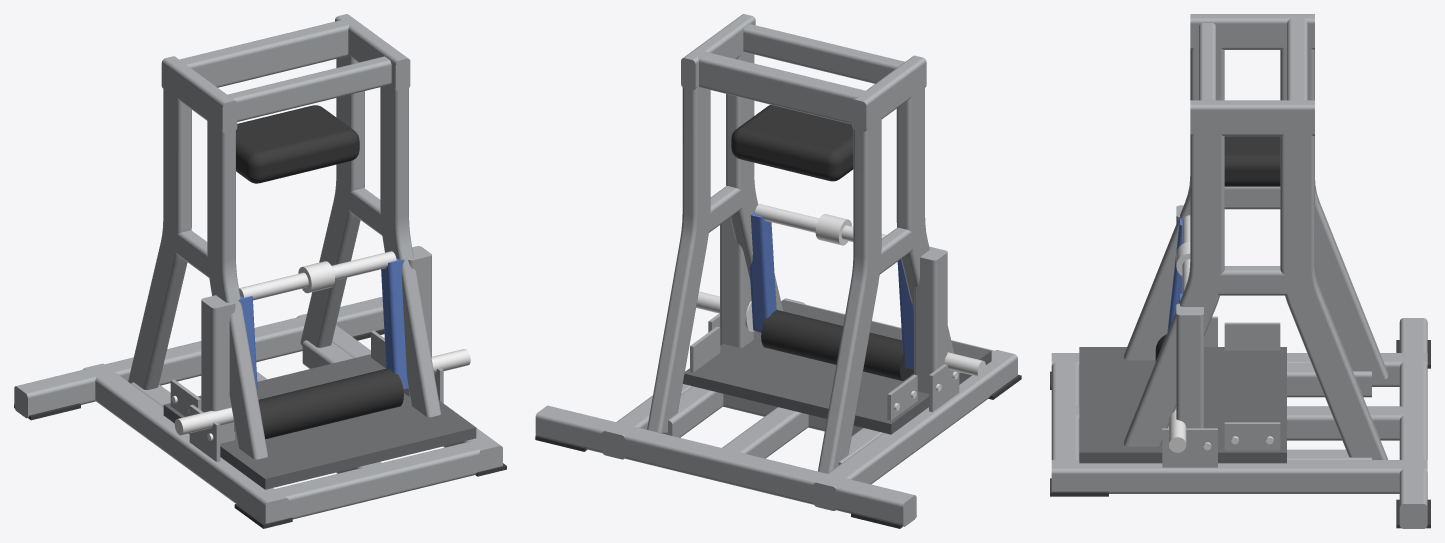
3 renders of one model, left to right at view 1: azimuth 30°, elevation 25°; view 2: azimuth 150°, elevation 25°; view 3: azimuth 270°, elevation 25°, orthographic. The views are drawn at different scales.
Visible parts, largest first — view 1: side_leg_tube (×4), base, platform_plate, thigh_pad_support, thigh_pad_pad, top_crossbar, lever_roller, lever_support, lever_bar (×2), lever_axle, lever_horn (×2), gusset (×2) (+1 smaller); view 2: side_leg_tube (×4), base, thigh_pad_support, platform_plate, lever_support, thigh_pad_pad, top_crossbar, lever_roller, lever_bar (×2), gusset (×3), lever_horn (×2), lever_axle (+1 smaller); view 3: side_leg_tube (×4), base, platform_plate, thigh_pad_support, gusset (×3), lever_support, thigh_pad_pad, top_crossbar, lever_bar, lever_horn, lever_axle.
Boxes of the visible parts, bbox=[...] form: side_leg_tube (×4): bbox=[128, 54, 441, 459]; base: bbox=[14, 296, 502, 523]; platform_plate: bbox=[163, 354, 476, 489]; thigh_pad_support: bbox=[131, 14, 410, 407]; thigh_pad_pad: bbox=[236, 105, 359, 183]; top_crossbar: bbox=[175, 19, 353, 87]; lever_roller: bbox=[258, 368, 403, 439]; lever_support: bbox=[201, 246, 431, 443]; lever_bar (×2): bbox=[238, 258, 408, 396]; lever_axle: bbox=[239, 251, 396, 300]; lever_horn (×2): bbox=[174, 349, 470, 435]; gusset (×2): bbox=[170, 379, 220, 461]; side_leg_tube (×4): bbox=[647, 52, 954, 473]; base: bbox=[535, 298, 1017, 526]; thigh_pad_support: bbox=[659, 14, 926, 464]; platform_plate: bbox=[683, 300, 991, 434]; lever_support: bbox=[720, 217, 947, 393]; thigh_pad_pad: bbox=[731, 105, 853, 181]; top_crossbar: bbox=[694, 51, 869, 124]; lever_roller: bbox=[761, 310, 913, 381]; lever_bar (×2): bbox=[749, 211, 913, 369]; gusset (×3): bbox=[690, 326, 959, 420]; lever_horn (×2): bbox=[696, 291, 985, 376]; lever_axle: bbox=[755, 204, 886, 241]; side_leg_tube (×4): bbox=[1124, 47, 1388, 459]; base: bbox=[1051, 318, 1427, 528]; platform_plate: bbox=[1079, 347, 1286, 463]; thigh_pad_support: bbox=[1190, 14, 1371, 464]; gusset (×3): bbox=[1162, 322, 1280, 467]; lever_support: bbox=[1176, 205, 1203, 428]; thigh_pad_pad: bbox=[1224, 136, 1280, 186]; top_crossbar: bbox=[1287, 18, 1307, 102]; lever_bar: bbox=[1167, 218, 1182, 332]; lever_horn: bbox=[1168, 407, 1186, 452]; lever_axle: bbox=[1182, 215, 1190, 293].
Bounding box in the file's own units: 1.27 × 1.2 × 1.1.
